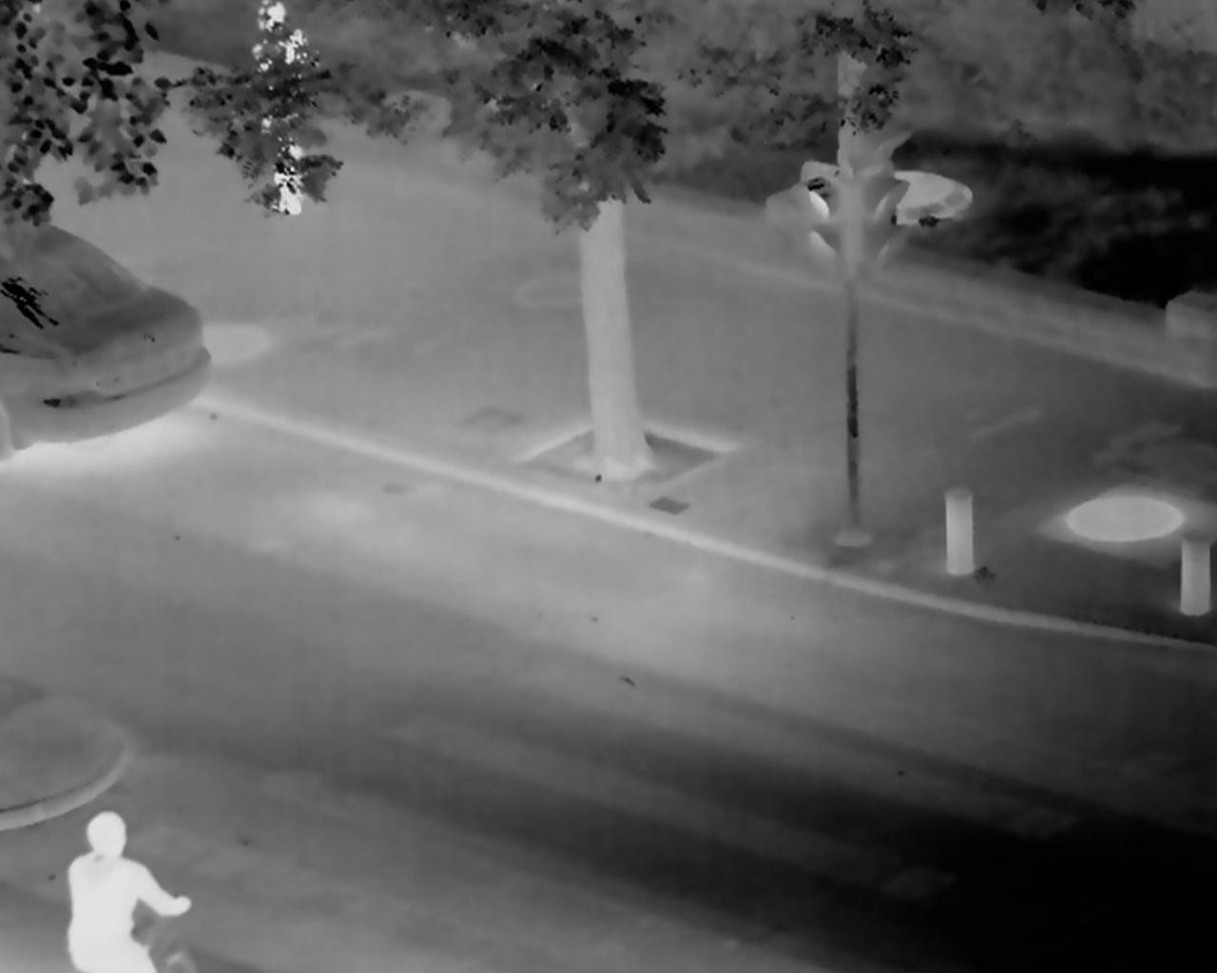person: (55, 805, 194, 963)
